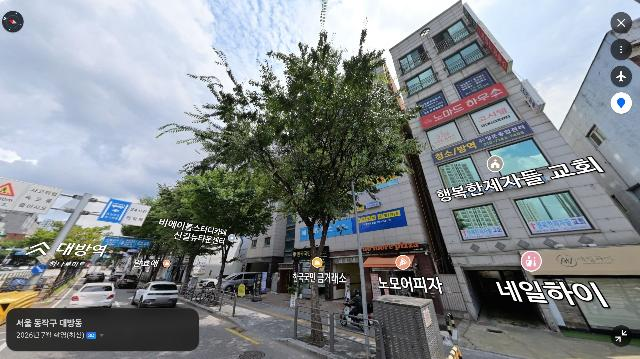other: (155, 0, 424, 345), (117, 163, 278, 305), (44, 221, 114, 307)
